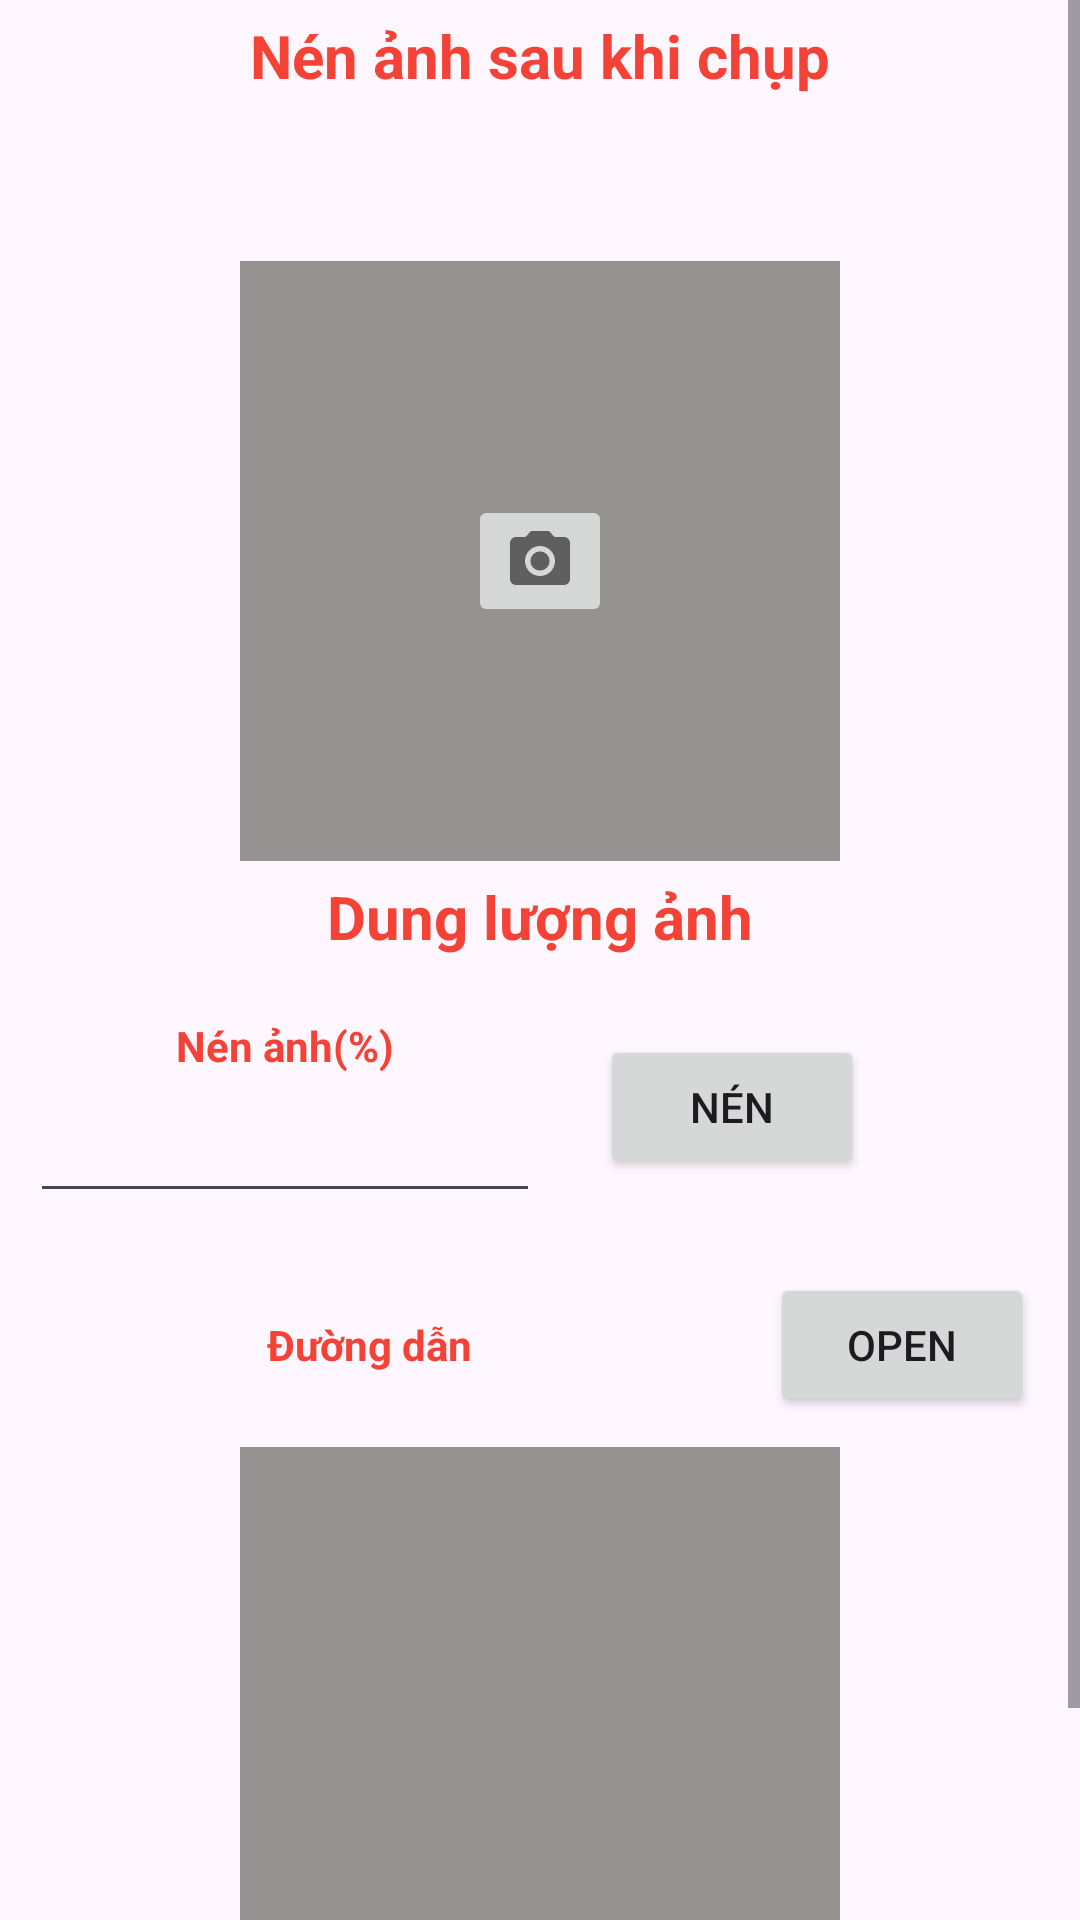

Screen size 1080w x 1920h. Icon name, then its center in pixels as point (x, y):
camera: point (540, 561)
